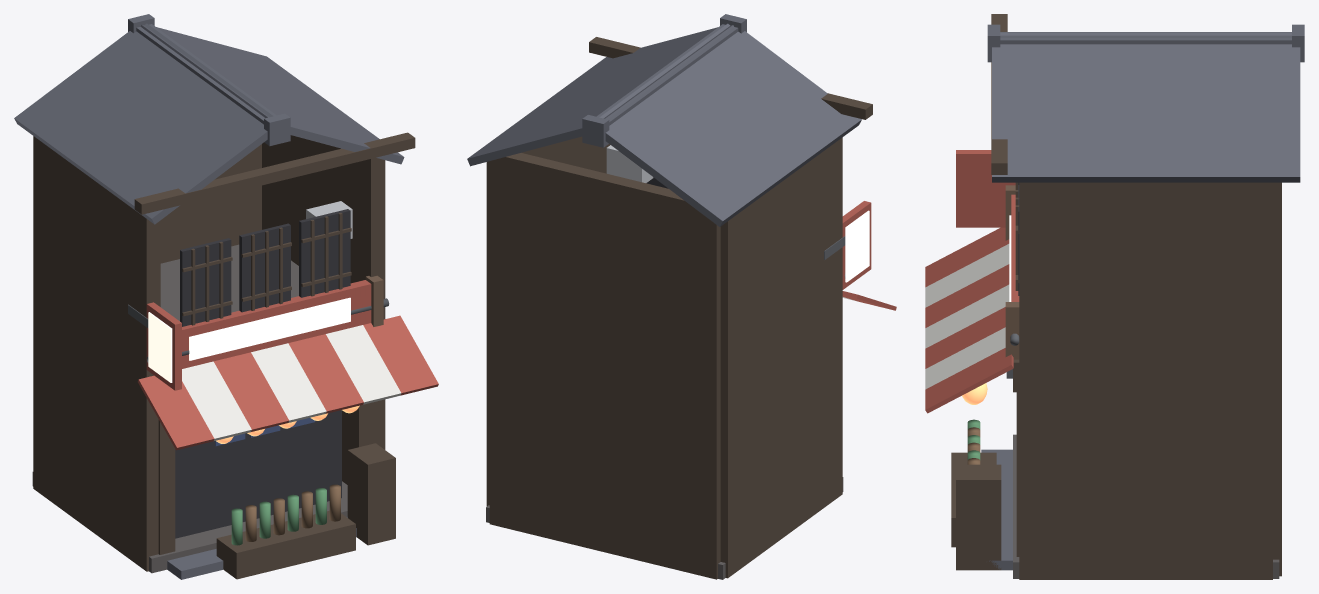
File: prop_shop_izakaya.glb
The picture shows the model from 3 angles, left to right: view 1: azimuth 30°, elevation 25°; view 2: azimuth 150°, elevation 25°; view 3: azimuth 270°, elevation 25°; orthographic projection. The views are drawn at different scales.
Parts seen in each view (by area): view 1: shop_izakaya; view 2: shop_izakaya; view 3: shop_izakaya.
Boxes of the visible parts, left/top/right/bottom form: shop_izakaya: left=14, top=14, right=438, bottom=579; shop_izakaya: left=467, top=14, right=896, bottom=579; shop_izakaya: left=925, top=14, right=1304, bottom=579.
Size of the model in its own units: 3.9 by 5.9 by 4.19.
